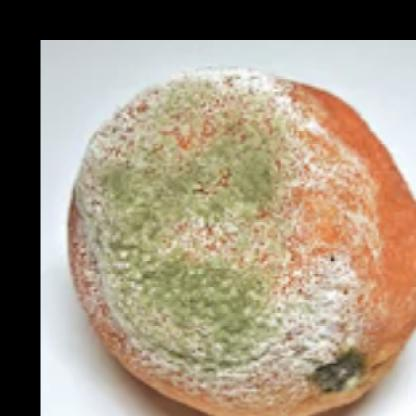rotten: (66, 71, 416, 416)
